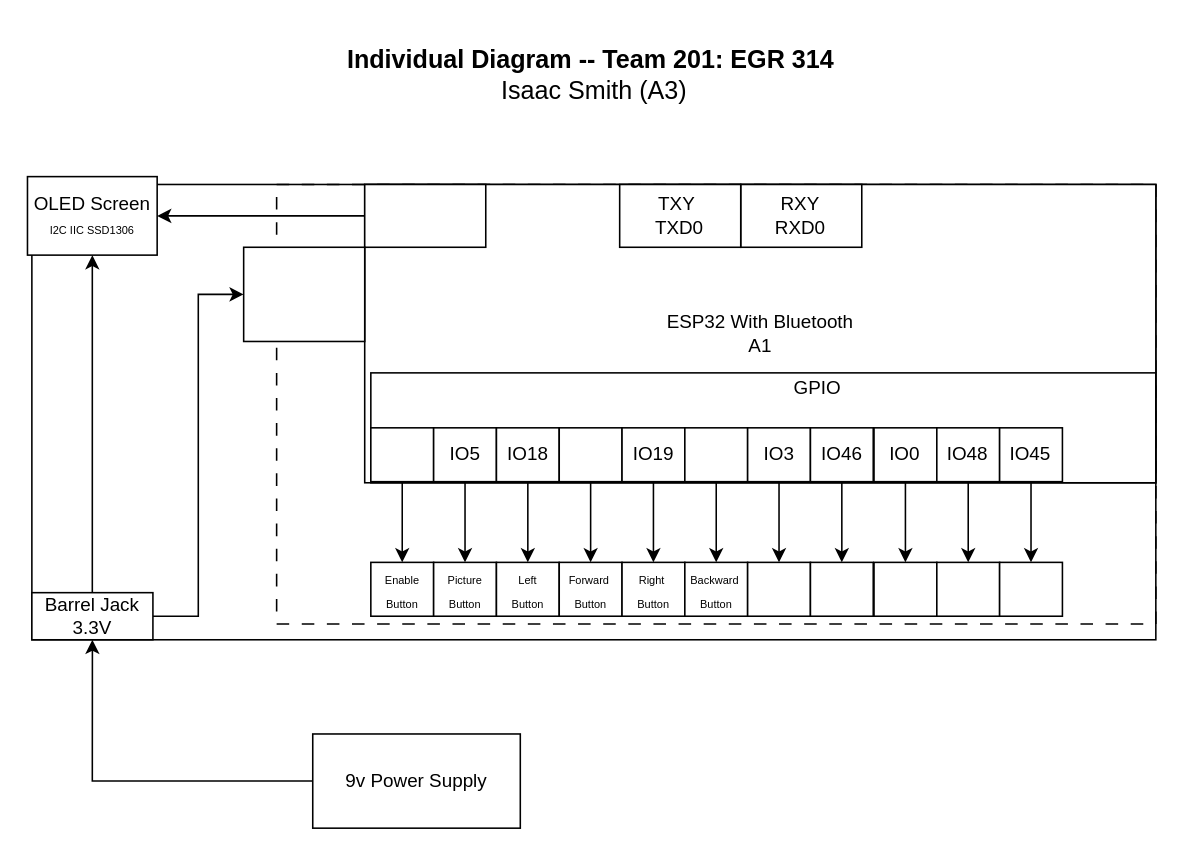
The diagram is 1184 pixels wide and 856 high, and some of its shapes have lost their labels. Each missing label, with the box of its shape:
3.3 Voltage Regulator LM2575D2T-3.3R4GOSCT-ND: (242, 246, 365, 341)
Boot Button: (872, 561, 937, 616)
Down Button: (809, 561, 873, 616)
EN: (369, 426, 434, 482)
IO20: (683, 426, 748, 482)
IO39/IO38: (363, 183, 486, 247)
IO8: (558, 426, 622, 482)
LED GREEN: (935, 561, 1000, 616)
LED RED DEBUG: (998, 561, 1062, 616)
Up Button: (746, 561, 810, 616)
